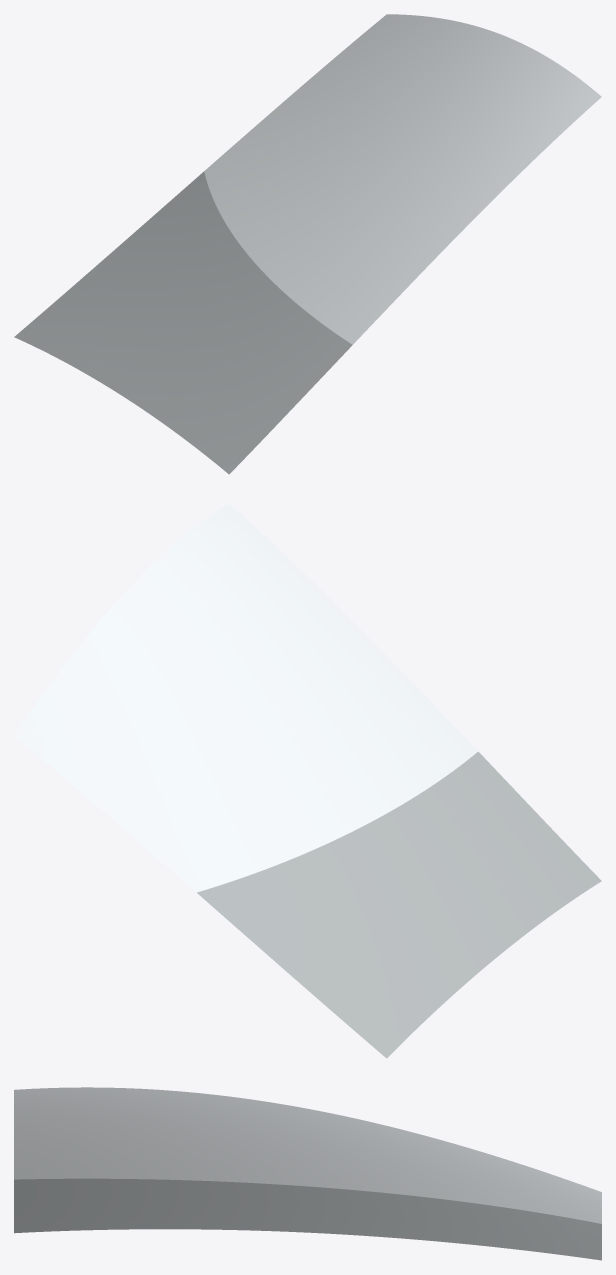
File: alpine-6-6.glb
The picture shows the model from 3 angles, top to bottom: view 1: azimuth 30°, elevation 25°; view 2: azimuth 150°, elevation 25°; view 3: azimuth 270°, elevation 25°; orthographic projection. The views are drawn at different scales.
Visible parts, largest first — view 1: alpine-6-6; view 2: alpine-6-6; view 3: alpine-6-6.
Boxes of the visible parts, left/top/right/bottom form: alpine-6-6: left=14, top=14, right=601, bottom=474; alpine-6-6: left=14, top=503, right=601, bottom=1058; alpine-6-6: left=14, top=1087, right=601, bottom=1260.
Size of the model in its own units: 256 by 203 by 256.
Materials: 2 (2 with a texture image).
